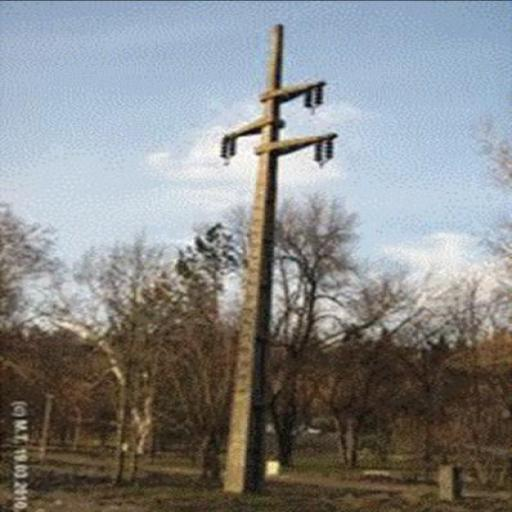mono_10: (210, 23, 338, 496)
